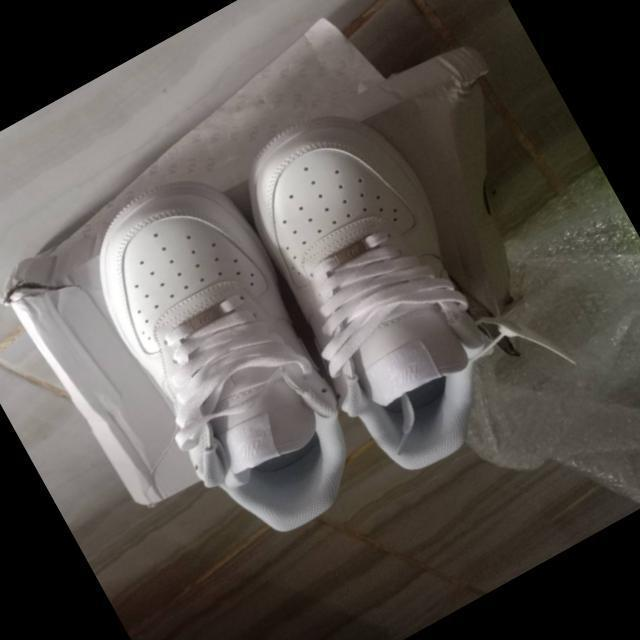nike original air force: (44, 156, 390, 574), (207, 85, 542, 497)
